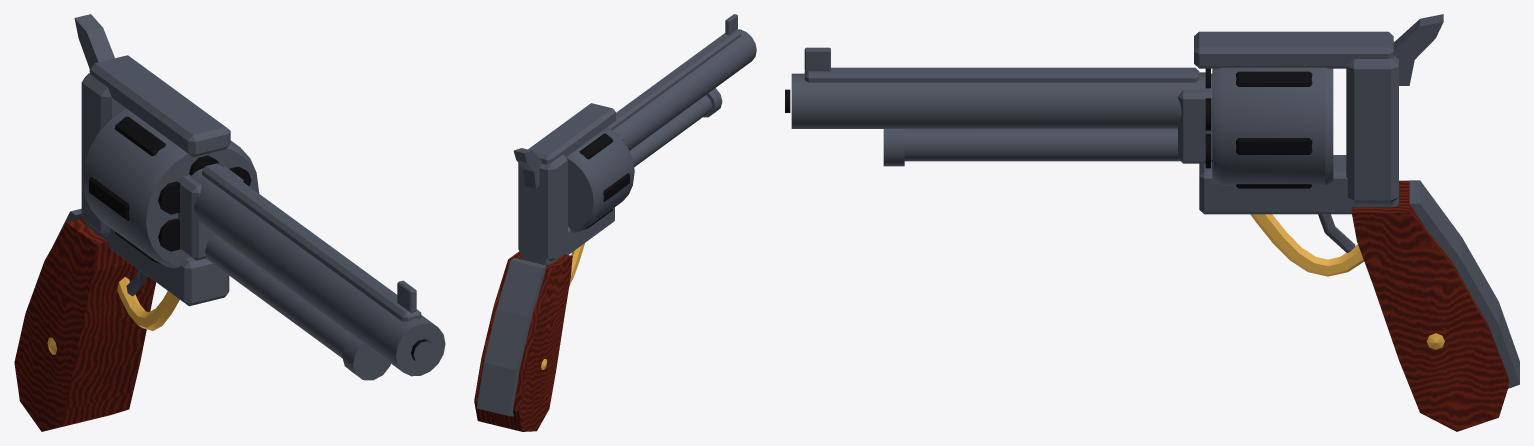
The model's file is tb_revolver.glb.
3 renders of one model, left to right at view 1: azimuth 30°, elevation 25°; view 2: azimuth 150°, elevation 25°; view 3: azimuth 270°, elevation 25°, orthographic. The views are drawn at different scales.
Parts seen in each view (by area): view 1: tb_revolver; view 2: tb_revolver; view 3: tb_revolver.
Boxes of the visible parts, x1,y1,x2,y2 form: tb_revolver: (14,14,445,431); tb_revolver: (474,14,756,431); tb_revolver: (785,14,1519,431).
Size of the model in its own units: 0.0536 by 0.167 by 0.2795.
4 materials, 1 textured.
